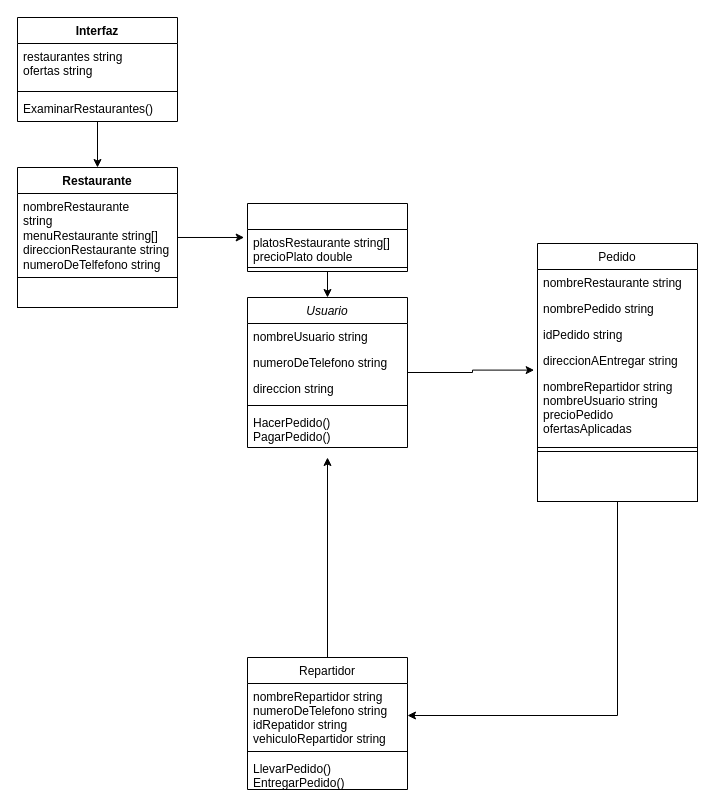
This 715x810 diagram has some shape labels left out. Each missing label, with the box of its shape:
ConfirmarReciboPedido() ExaminarTrayectoriaPedido() CancelarPedido(): (536, 450, 698, 502)
Menu Restaurante: (246, 202, 408, 272)
RevisarMenu(): (16, 276, 178, 308)
